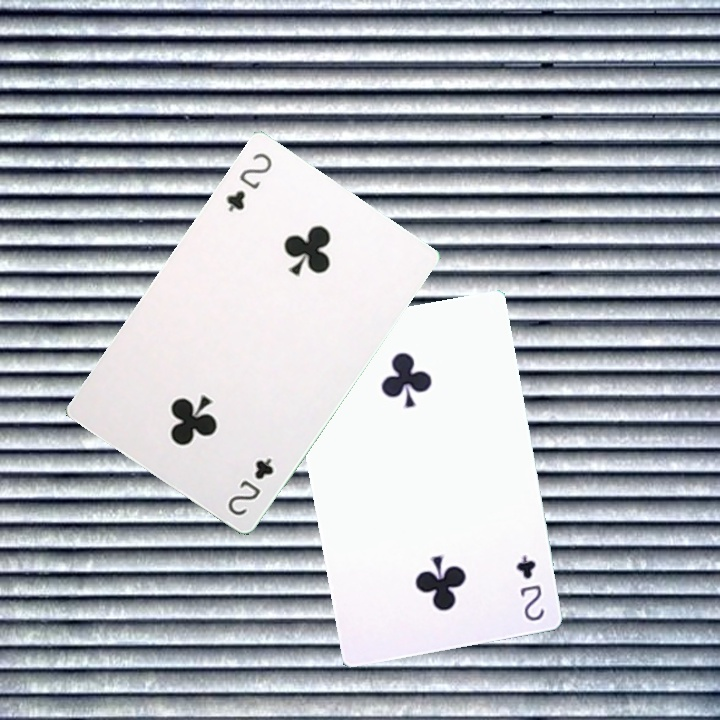2c: (222, 148, 275, 215), (223, 453, 276, 519), (511, 550, 547, 624)
